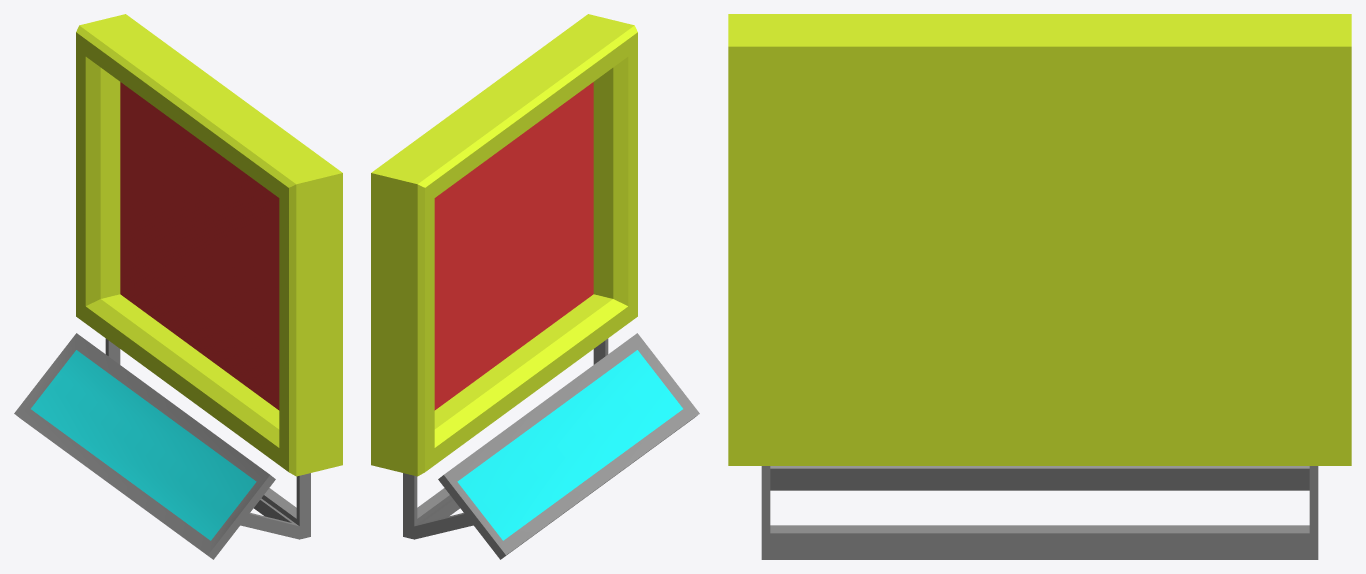
The model's file is computer.FBX.
The picture shows the model from 3 angles, left to right: view 1: azimuth 30°, elevation 25°; view 2: azimuth 150°, elevation 25°; view 3: azimuth 270°, elevation 25°; orthographic projection. The views are drawn at different scales.
Visible parts, largest first — view 1: computer; view 2: computer; view 3: computer.
Boxes of the visible parts, <box> form: computer: <box>14,14,342,559</box>; computer: <box>371,14,699,559</box>; computer: <box>728,14,1351,559</box>.
Size of the model in its own units: 7.6 by 21.61 by 23.15.
